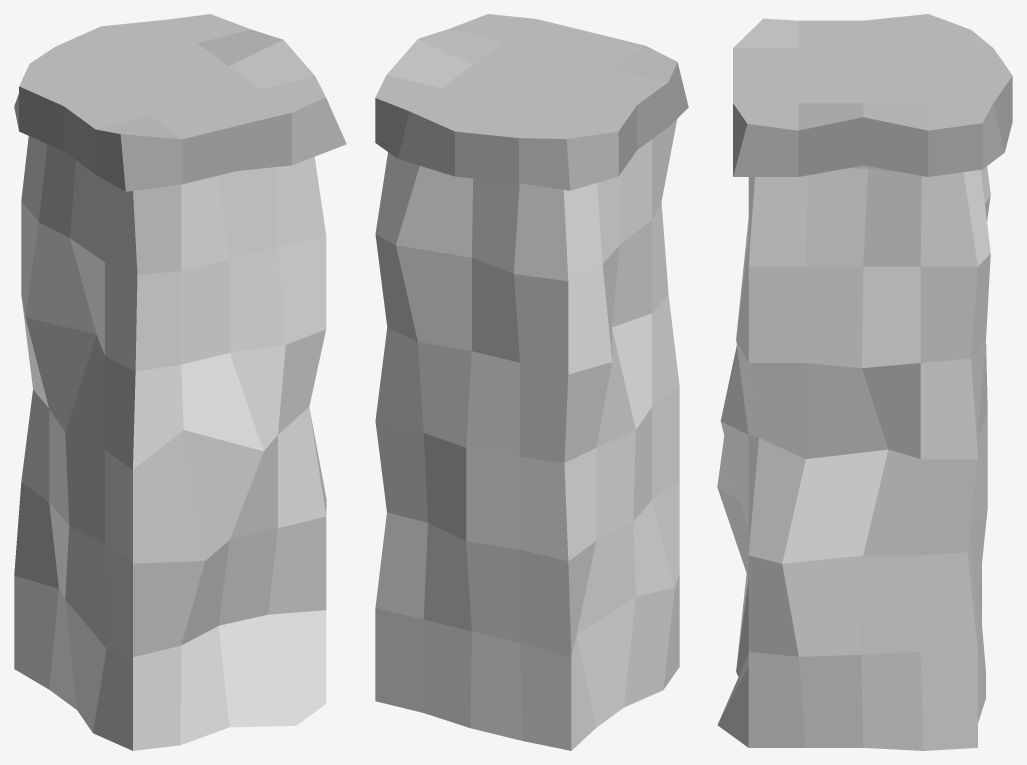
File: SnowColumn.fbx
3 views of the same model, side by side, from view 1: azimuth 30°, elevation 25°; view 2: azimuth 150°, elevation 25°; view 3: azimuth 270°, elevation 25° (orthographic). The views are drawn at different scales.
Parts seen in each view (by area): view 1: Cube.040; view 2: Cube.040; view 3: Cube.040.
Boxes of the visible parts, x1,y1,x2,y2 form: Cube.040: [14, 14, 346, 750]; Cube.040: [375, 14, 688, 750]; Cube.040: [717, 14, 1012, 750].
Bounding box in the file's own units: 245 × 613 × 258.
